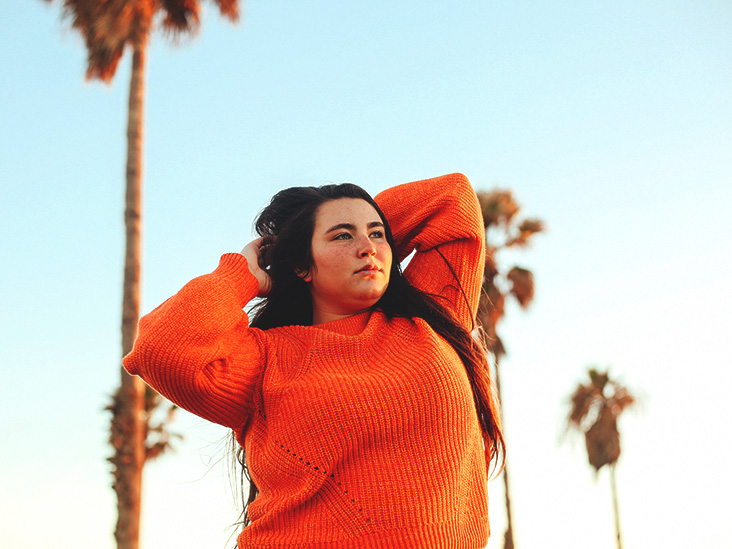bare: (311, 243, 395, 302)
